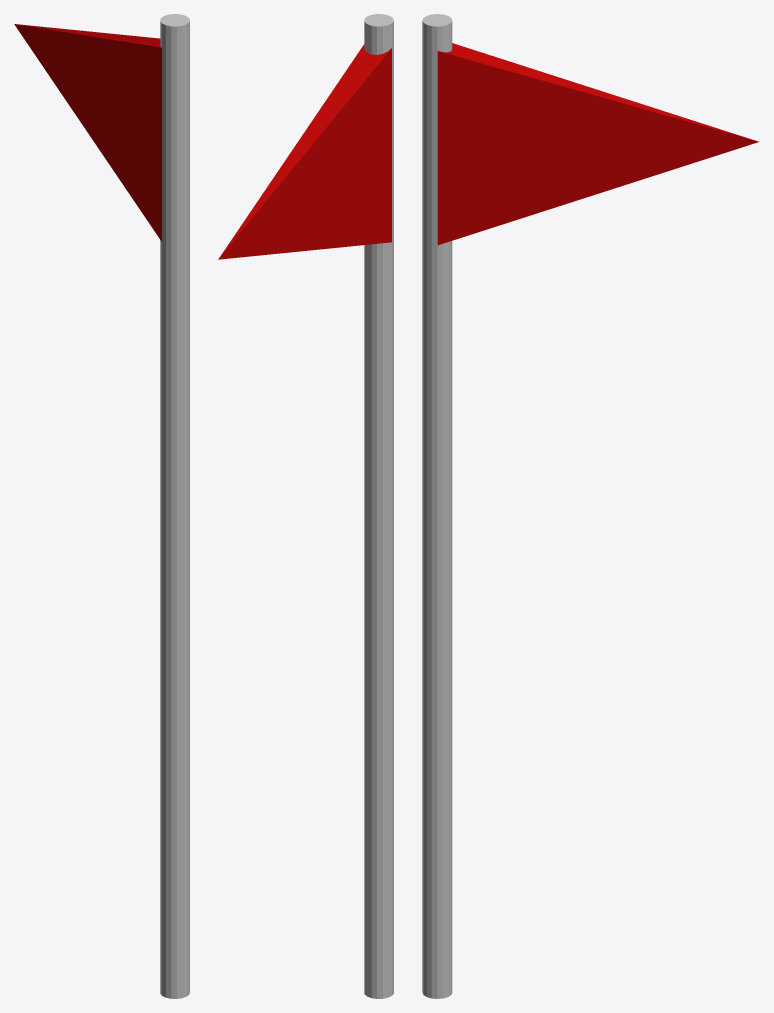
File: mrflag.obj
3 renders of one model, left to right at view 1: azimuth 30°, elevation 25°; view 2: azimuth 150°, elevation 25°; view 3: azimuth 270°, elevation 25°, orthographic.
Parts seen in each view (by area): view 1: Cylinder, Cylinder.001; view 2: Cylinder, Cylinder.001; view 3: Cylinder.001, Cylinder.
Boxes of the visible parts, <box> form: Cylinder: <box>160,14,189,998</box>; Cylinder.001: <box>14,24,161,241</box>; Cylinder: <box>364,14,393,998</box>; Cylinder.001: <box>218,44,391,259</box>; Cylinder.001: <box>437,43,758,245</box>; Cylinder: <box>422,14,452,998</box>.
Size of the model in its own units: 0.28 by 10 by 3.14.
